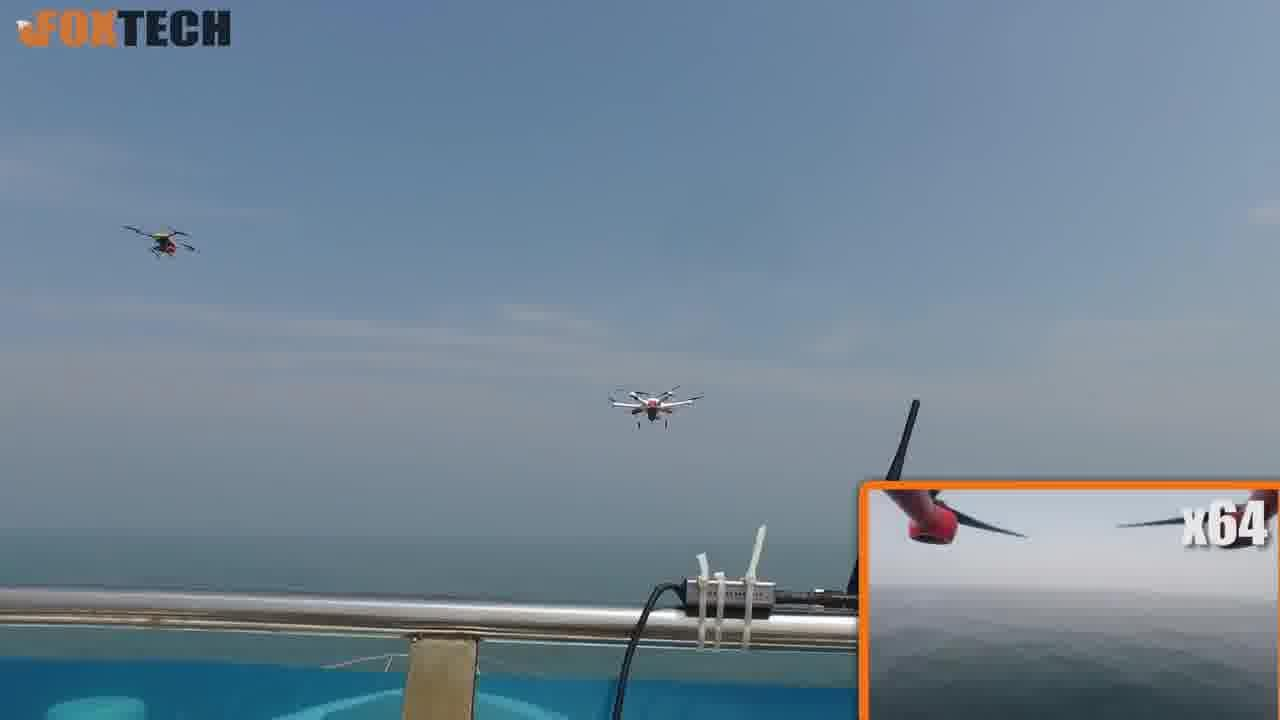drone: (585, 377, 712, 444), (116, 218, 204, 265)
